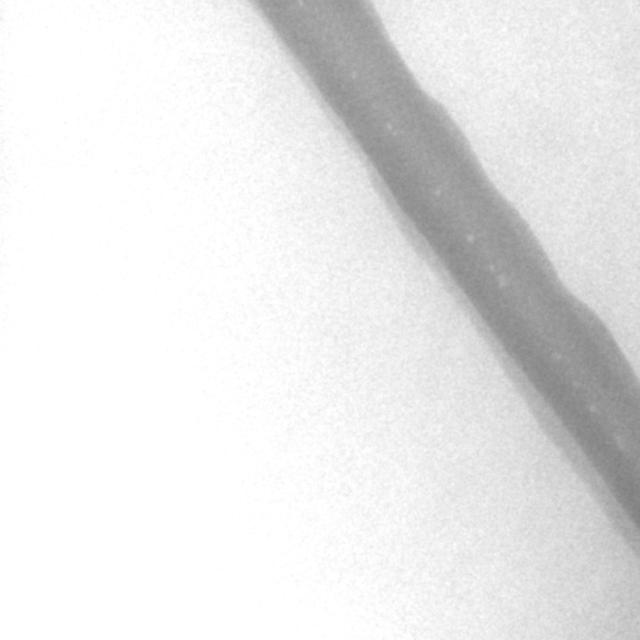air-hole: (613, 435, 621, 450), (498, 274, 504, 292), (465, 232, 471, 245), (556, 351, 561, 360), (386, 122, 390, 130), (590, 402, 594, 410), (575, 379, 578, 389), (436, 189, 439, 198), (487, 262, 491, 268), (351, 72, 355, 78)
